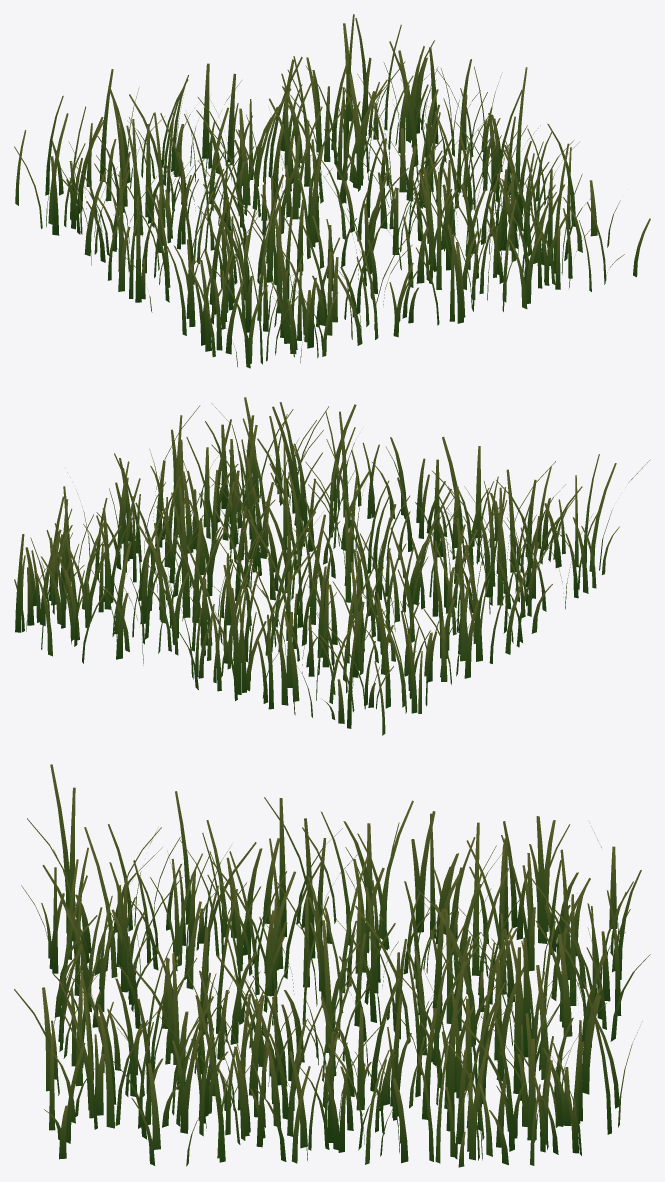
File: Turf_Wild_v0.glb
The picture shows the model from 3 angles, top to bottom: view 1: azimuth 30°, elevation 25°; view 2: azimuth 150°, elevation 25°; view 3: azimuth 270°, elevation 25°; orthographic projection. The views are drawn at different scales.
Parts seen in each view (by area): view 1: Turf_Wild_v0; view 2: Turf_Wild_v0; view 3: Turf_Wild_v0.
Part boxes in pixels (<box>): Turf_Wild_v0: <box>14,14,650,368</box>; Turf_Wild_v0: <box>14,397,650,735</box>; Turf_Wild_v0: <box>14,764,650,1167</box>.
Size of the model in its own units: 1.34 by 0.337 by 1.34.
